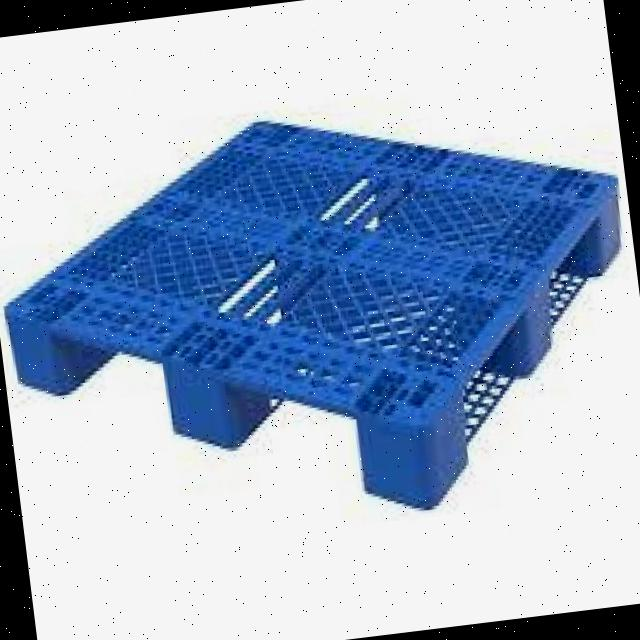block: (355, 386, 474, 507), (164, 353, 234, 447), (6, 305, 70, 399), (520, 267, 552, 375), (589, 182, 624, 270)
front: (8, 310, 430, 509)
hole pallet: (227, 391, 359, 488), (57, 336, 171, 430)
